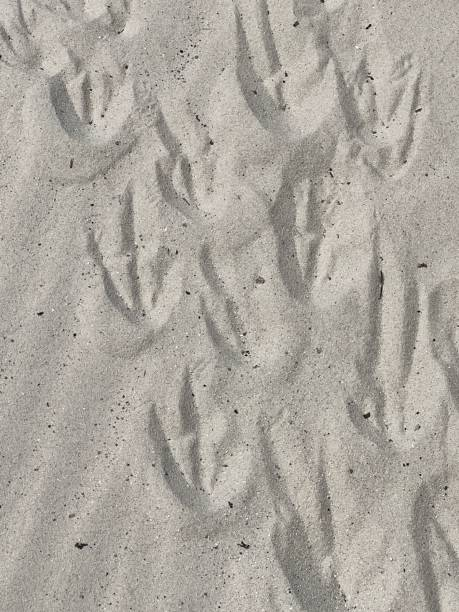animal_foot_print: (235, 8, 427, 298), (271, 54, 425, 334), (88, 105, 248, 363), (314, 53, 422, 424), (314, 198, 457, 456), (235, 3, 344, 300), (315, 54, 423, 304), (376, 278, 457, 609), (0, 0, 141, 182), (325, 418, 454, 610), (346, 248, 456, 468), (345, 262, 458, 476), (357, 242, 458, 469), (154, 108, 243, 360), (152, 104, 269, 259), (201, 232, 305, 399), (152, 103, 267, 250), (152, 104, 266, 252), (87, 181, 185, 352), (149, 360, 252, 514), (260, 428, 345, 611), (235, 0, 337, 143), (376, 275, 450, 471), (22, 77, 135, 184), (308, 137, 377, 311), (374, 243, 424, 448), (335, 486, 415, 611), (349, 54, 427, 179), (305, 169, 374, 309), (0, 0, 130, 74), (149, 370, 207, 509), (49, 63, 136, 149), (67, 47, 135, 142), (411, 474, 458, 611), (154, 106, 202, 233), (235, 5, 280, 128), (199, 244, 244, 364), (427, 277, 459, 410), (16, 0, 132, 33), (0, 0, 39, 70), (293, 179, 320, 277), (84, 0, 132, 33), (133, 77, 157, 128), (23, 0, 82, 19), (323, 0, 347, 12)
